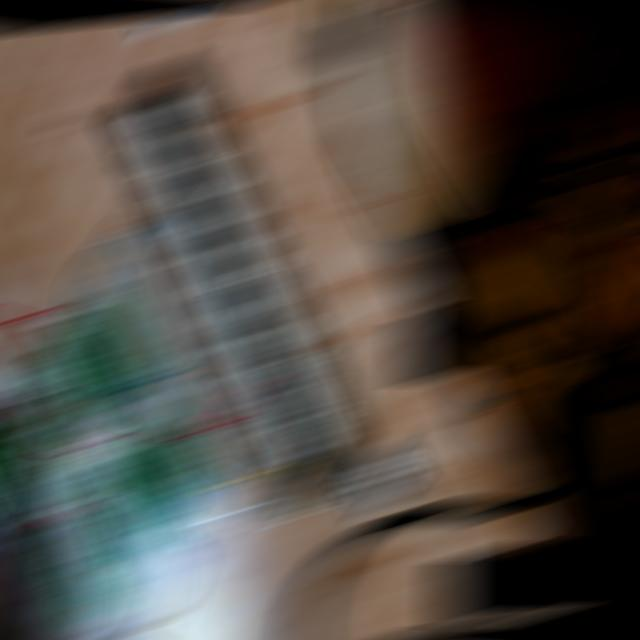Phillips_Block: (99, 55, 372, 503)
Terminal_1: (39, 524, 115, 617), (0, 418, 66, 511)
Terminal_2: (84, 467, 160, 556), (52, 317, 127, 406), (31, 346, 106, 434), (129, 409, 203, 496), (108, 439, 181, 527)
